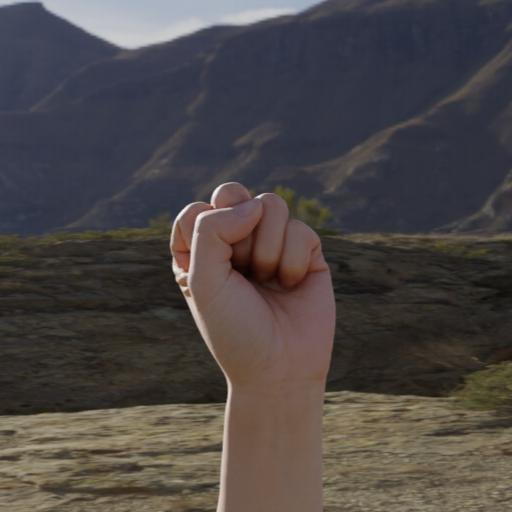S: (160, 176, 346, 512)
